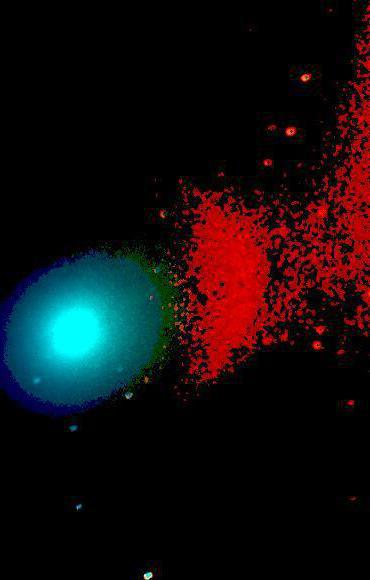star: (130, 367, 160, 397)
